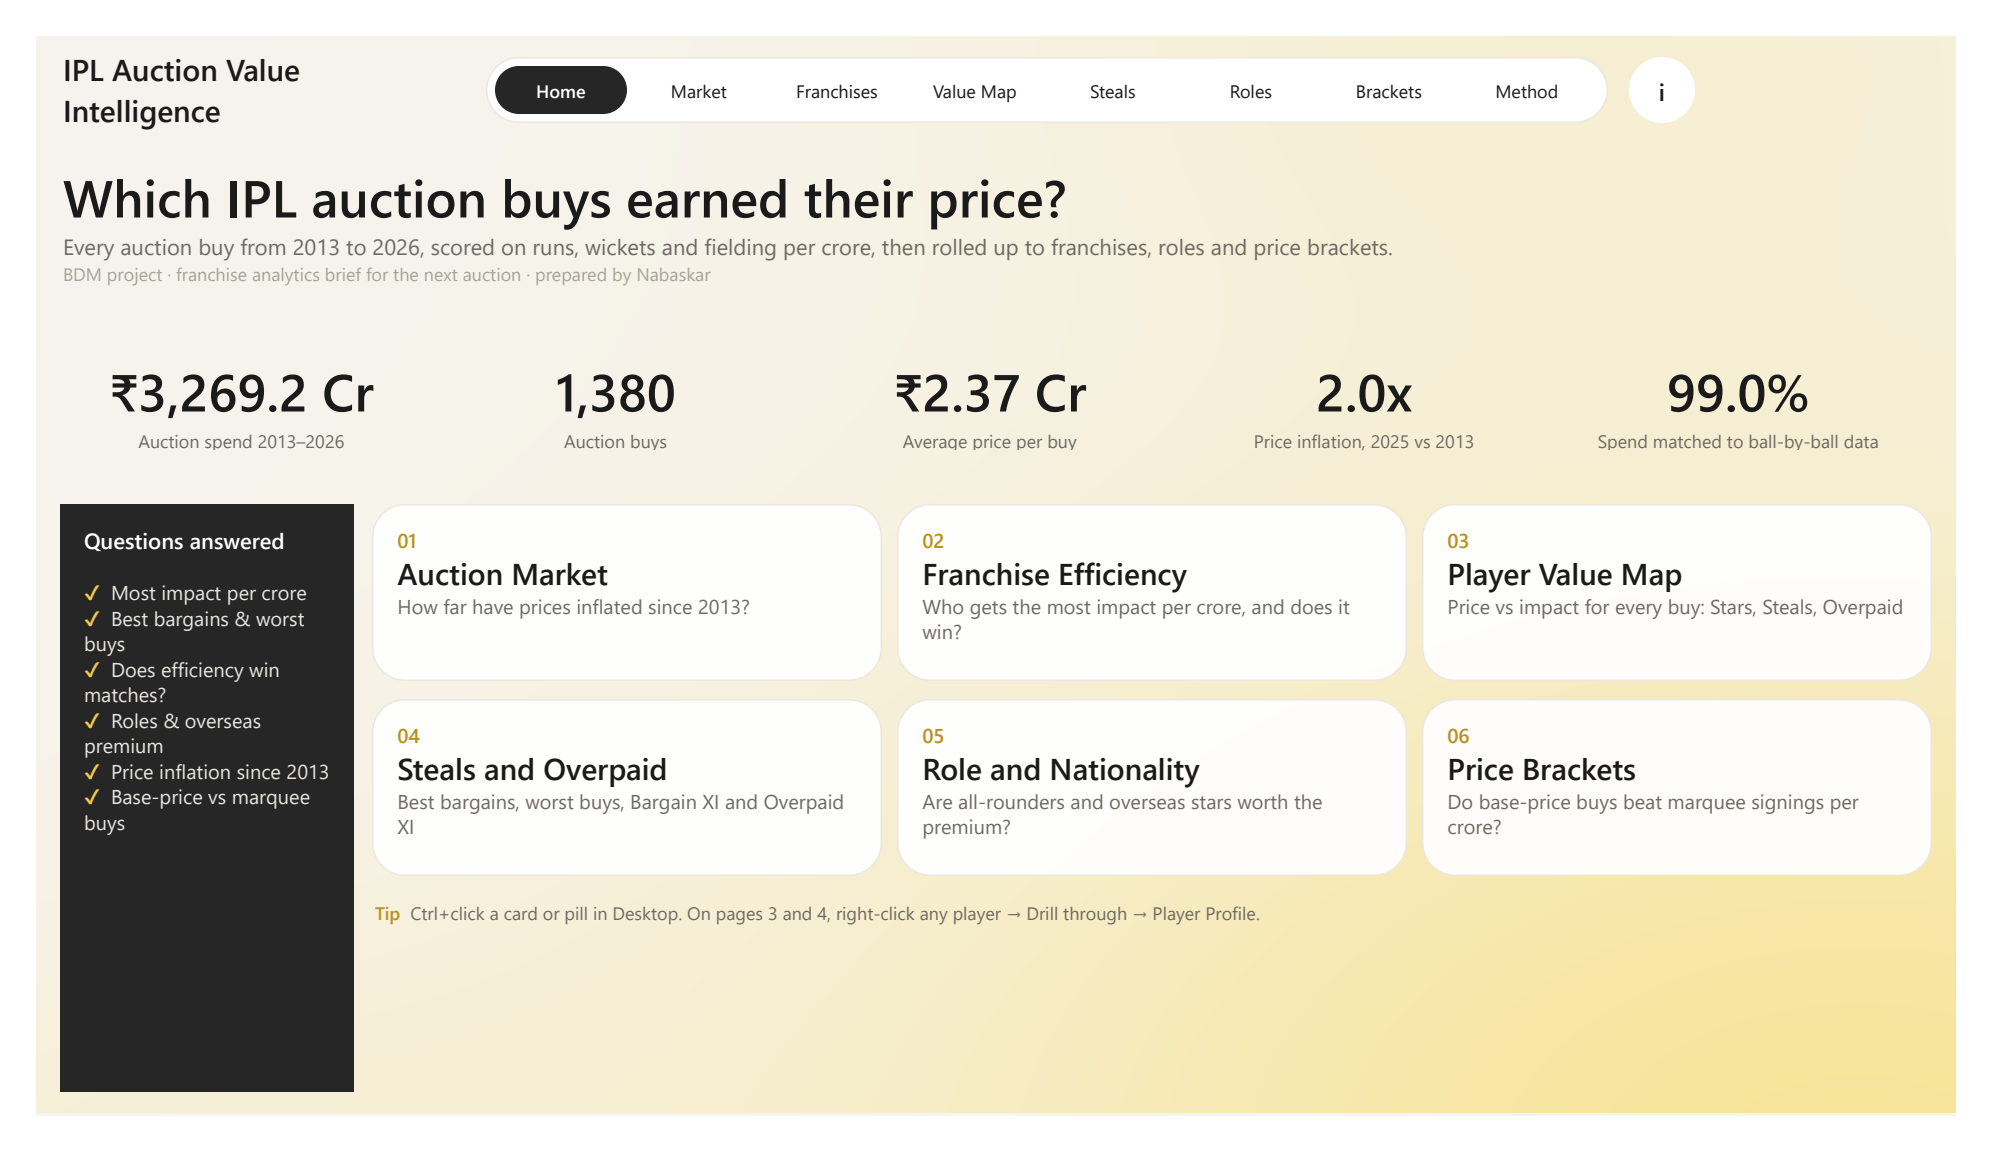

The page's visual inventory and layout, read from the dashboard file:
{"tool":"powerbi","page":{"name":"Home","canvas":[1280,720],"ordinal":0},"visuals":[{"type":"textbox","box":[16,8,270,66],"z":1000},{"type":"textbox","box":[300,14,748,44],"z":2000},{"type":"actionButton","title":"Home","box":[306,20,88,32],"z":3000},{"type":"actionButton","title":"Market","box":[398,20,88,32],"z":4000},{"type":"actionButton","title":"Franchises","box":[490,20,88,32],"z":5000},{"type":"actionButton","title":"Value Map","box":[582,20,88,32],"z":6000},{"type":"actionButton","title":"Steals","box":[674,20,88,32],"z":7000},{"type":"actionButton","title":"Roles","box":[766,20,88,32],"z":8000},{"type":"actionButton","title":"Brackets","box":[858,20,88,32],"z":9000},{"type":"actionButton","title":"Method","box":[950,20,88,32],"z":10000},{"type":"actionButton","title":"i","box":[1062,14,44,44],"z":11000},{"type":"textbox","box":[16,84,960,120],"z":12000},{"type":"card","fields":{"Values":["_Measures.Total Auction Spend Cr"]},"box":[16,214,241.6,62],"z":13000},{"type":"card","fields":{"Values":["_Measures.Players Bought"]},"box":[265.6,214,241.6,62],"z":14000},{"type":"card","fields":{"Values":["_Measures.Avg Auction Price Cr"]},"box":[515.2,214,241.6,62],"z":15000},{"type":"card","fields":{"Values":["_Measures.Mega 2025 vs 2013"]},"box":[764.8,214,241.6,62],"z":16000},{"type":"card","fields":{"Values":["_Measures.Spend Matched %"]},"box":[1014.4,214,241.6,62],"z":17000},{"type":"textbox","box":[224,312,340,118],"z":18000},{"type":"actionButton","title":"button","box":[224,312,340,118],"z":19000},{"type":"textbox","box":[574,312,340,118],"z":20000},{"type":"actionButton","title":"button","box":[574,312,340,118],"z":21000},{"type":"textbox","box":[924,312,340,118],"z":22000},{"type":"actionButton","title":"button","box":[924,312,340,118],"z":23000},{"type":"textbox","box":[224,442,340,118],"z":24000},{"type":"actionButton","title":"button","box":[224,442,340,118],"z":25000},{"type":"textbox","box":[574,442,340,118],"z":26000},{"type":"actionButton","title":"button","box":[574,442,340,118],"z":27000},{"type":"textbox","box":[924,442,340,118],"z":28000},{"type":"actionButton","title":"button","box":[924,442,340,118],"z":29000},{"type":"textbox","box":[224,576,1040,40],"z":30000},{"type":"textbox","box":[16,312,196,392],"z":31000}]}

Visuals, with their boxes in screenshot pixels (x1, y1, x2, y2), scaled from the page's 1280x720 canvas onto the 1992x1152 screenshot:
textbox: region(25, 13, 445, 118)
textbox: region(467, 22, 1631, 93)
"Home" actionButton: region(476, 32, 613, 83)
"Market" actionButton: region(619, 32, 756, 83)
"Franchises" actionButton: region(763, 32, 900, 83)
"Value Map" actionButton: region(906, 32, 1043, 83)
"Steals" actionButton: region(1049, 32, 1186, 83)
"Roles" actionButton: region(1192, 32, 1329, 83)
"Brackets" actionButton: region(1335, 32, 1472, 83)
"Method" actionButton: region(1478, 32, 1615, 83)
"i" actionButton: region(1653, 22, 1721, 93)
textbox: region(25, 134, 1519, 326)
card - _Measures.Total Auction Spend Cr: region(25, 342, 401, 442)
card - _Measures.Players Bought: region(413, 342, 789, 442)
card - _Measures.Avg Auction Price Cr: region(802, 342, 1178, 442)
card - _Measures.Mega 2025 vs 2013: region(1190, 342, 1566, 442)
card - _Measures.Spend Matched %: region(1579, 342, 1955, 442)
textbox: region(349, 499, 878, 688)
"button" actionButton: region(349, 499, 878, 688)
textbox: region(893, 499, 1422, 688)
"button" actionButton: region(893, 499, 1422, 688)
textbox: region(1438, 499, 1967, 688)
"button" actionButton: region(1438, 499, 1967, 688)
textbox: region(349, 707, 878, 896)
"button" actionButton: region(349, 707, 878, 896)
textbox: region(893, 707, 1422, 896)
"button" actionButton: region(893, 707, 1422, 896)
textbox: region(1438, 707, 1967, 896)
"button" actionButton: region(1438, 707, 1967, 896)
textbox: region(349, 922, 1967, 986)
textbox: region(25, 499, 330, 1126)
